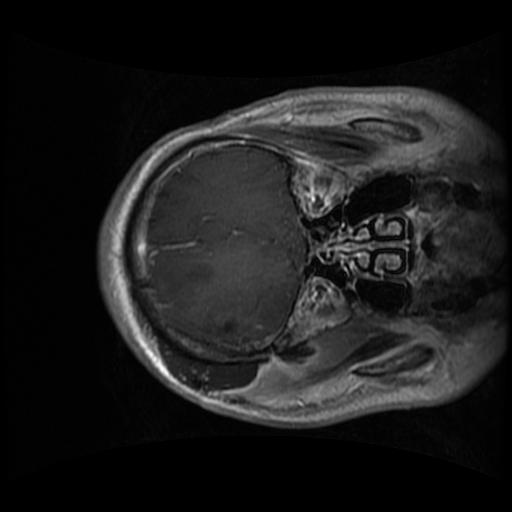glioma: (204, 308, 252, 349)
